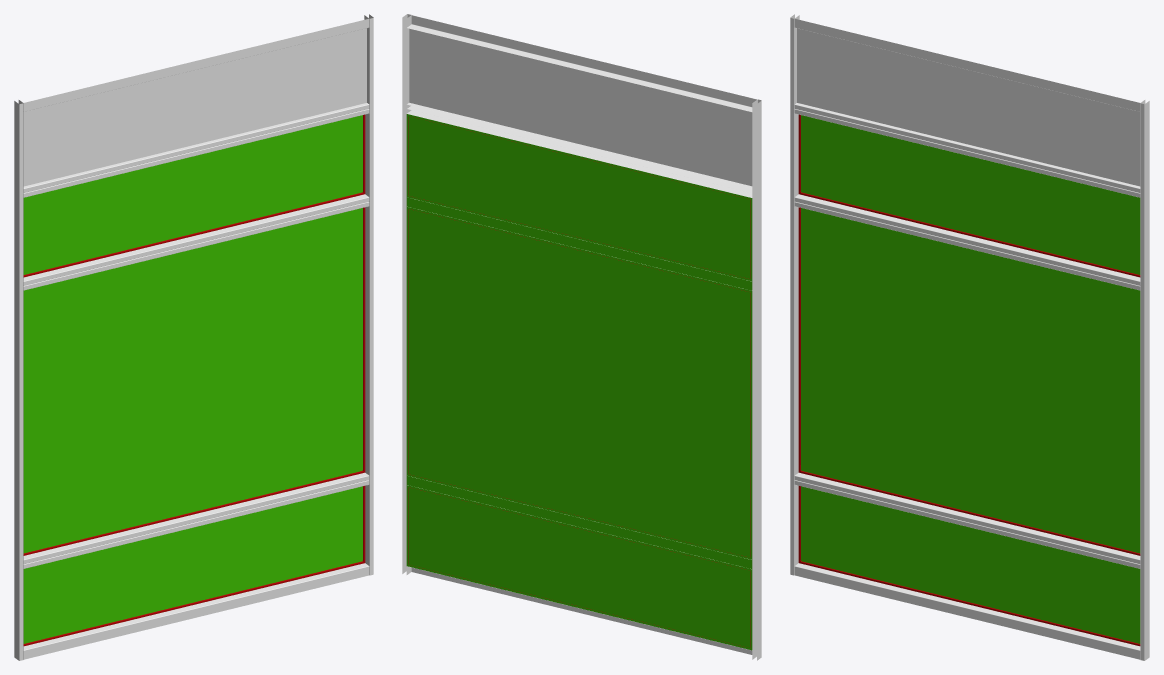
File: Wall04b.fbx
3 renders of one model, left to right at view 1: azimuth 30°, elevation 25°; view 2: azimuth 150°, elevation 25°; view 3: azimuth 330°, elevation 25°, orthographic.
Parts seen in each view (by area): view 1: Wall04b; view 2: Wall04b; view 3: Wall04b.
Part boxes in pixels (x1=…): Wall04b: x1=14, y1=14, x2=373, y2=660; Wall04b: x1=402, y1=14, x2=761, y2=660; Wall04b: x1=790, y1=14, x2=1149, y2=660.
Bounding box in the file's own units: 200 × 300 × 5.
